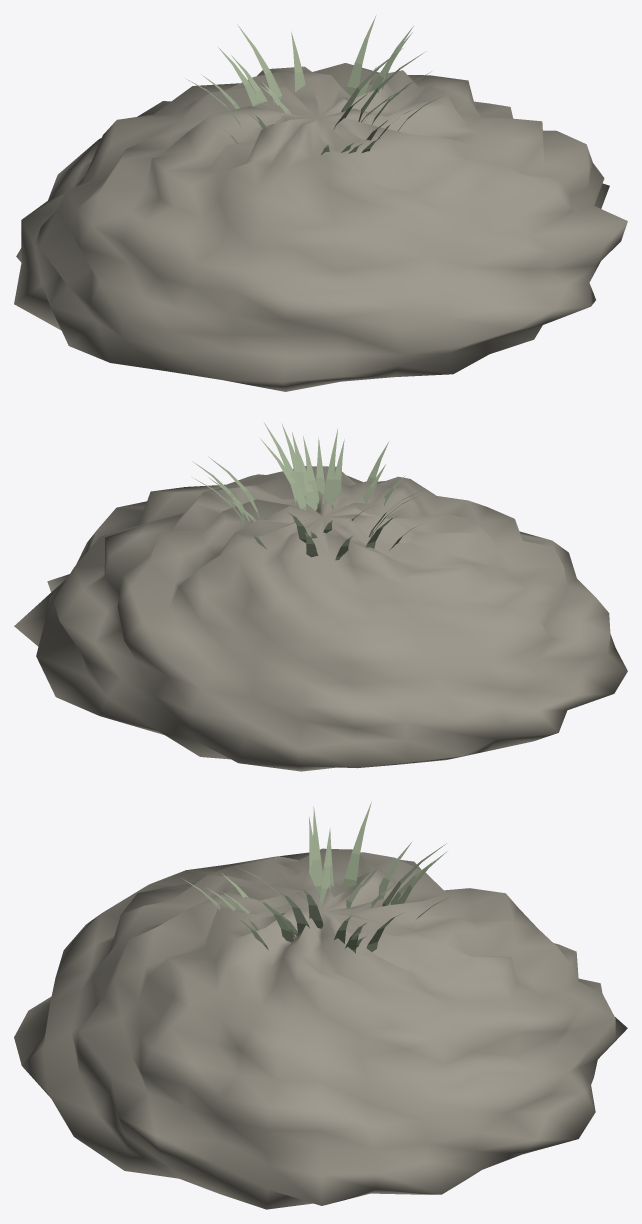
The model's file is alpine-and-arctic-biomes-tundra-hummock-9d3eee7a__20976.glb.
3 renders of one model, top to bottom at view 1: azimuth 30°, elevation 25°; view 2: azimuth 150°, elevation 25°; view 3: azimuth 270°, elevation 25°, orthographic. The views are drawn at different scales.
Parts seen in each view (by area): view 1: tundra-hummock; view 2: tundra-hummock; view 3: tundra-hummock.
Part boxes in pixels (x1,y1,x2,y2): tundra-hummock: [14, 15, 627, 391]; tundra-hummock: [14, 422, 627, 771]; tundra-hummock: [14, 802, 627, 1209].
Size of the model in its own units: 0.943 by 0.351 by 0.8397.
